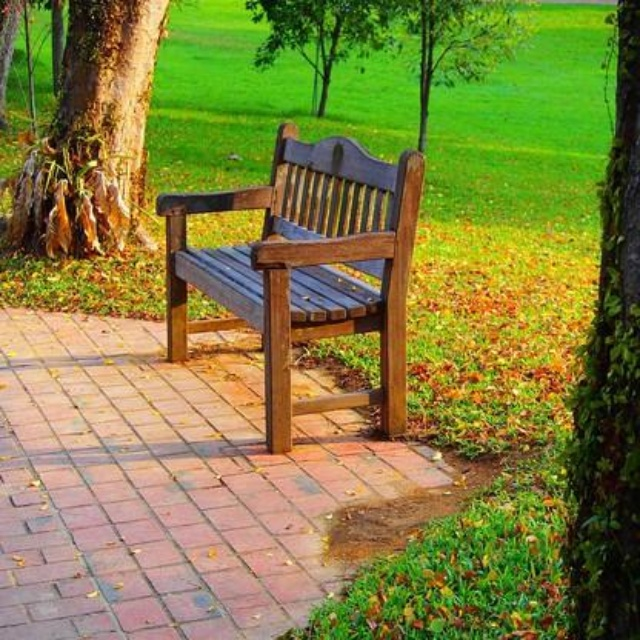obstacle: (148, 115, 443, 486)
